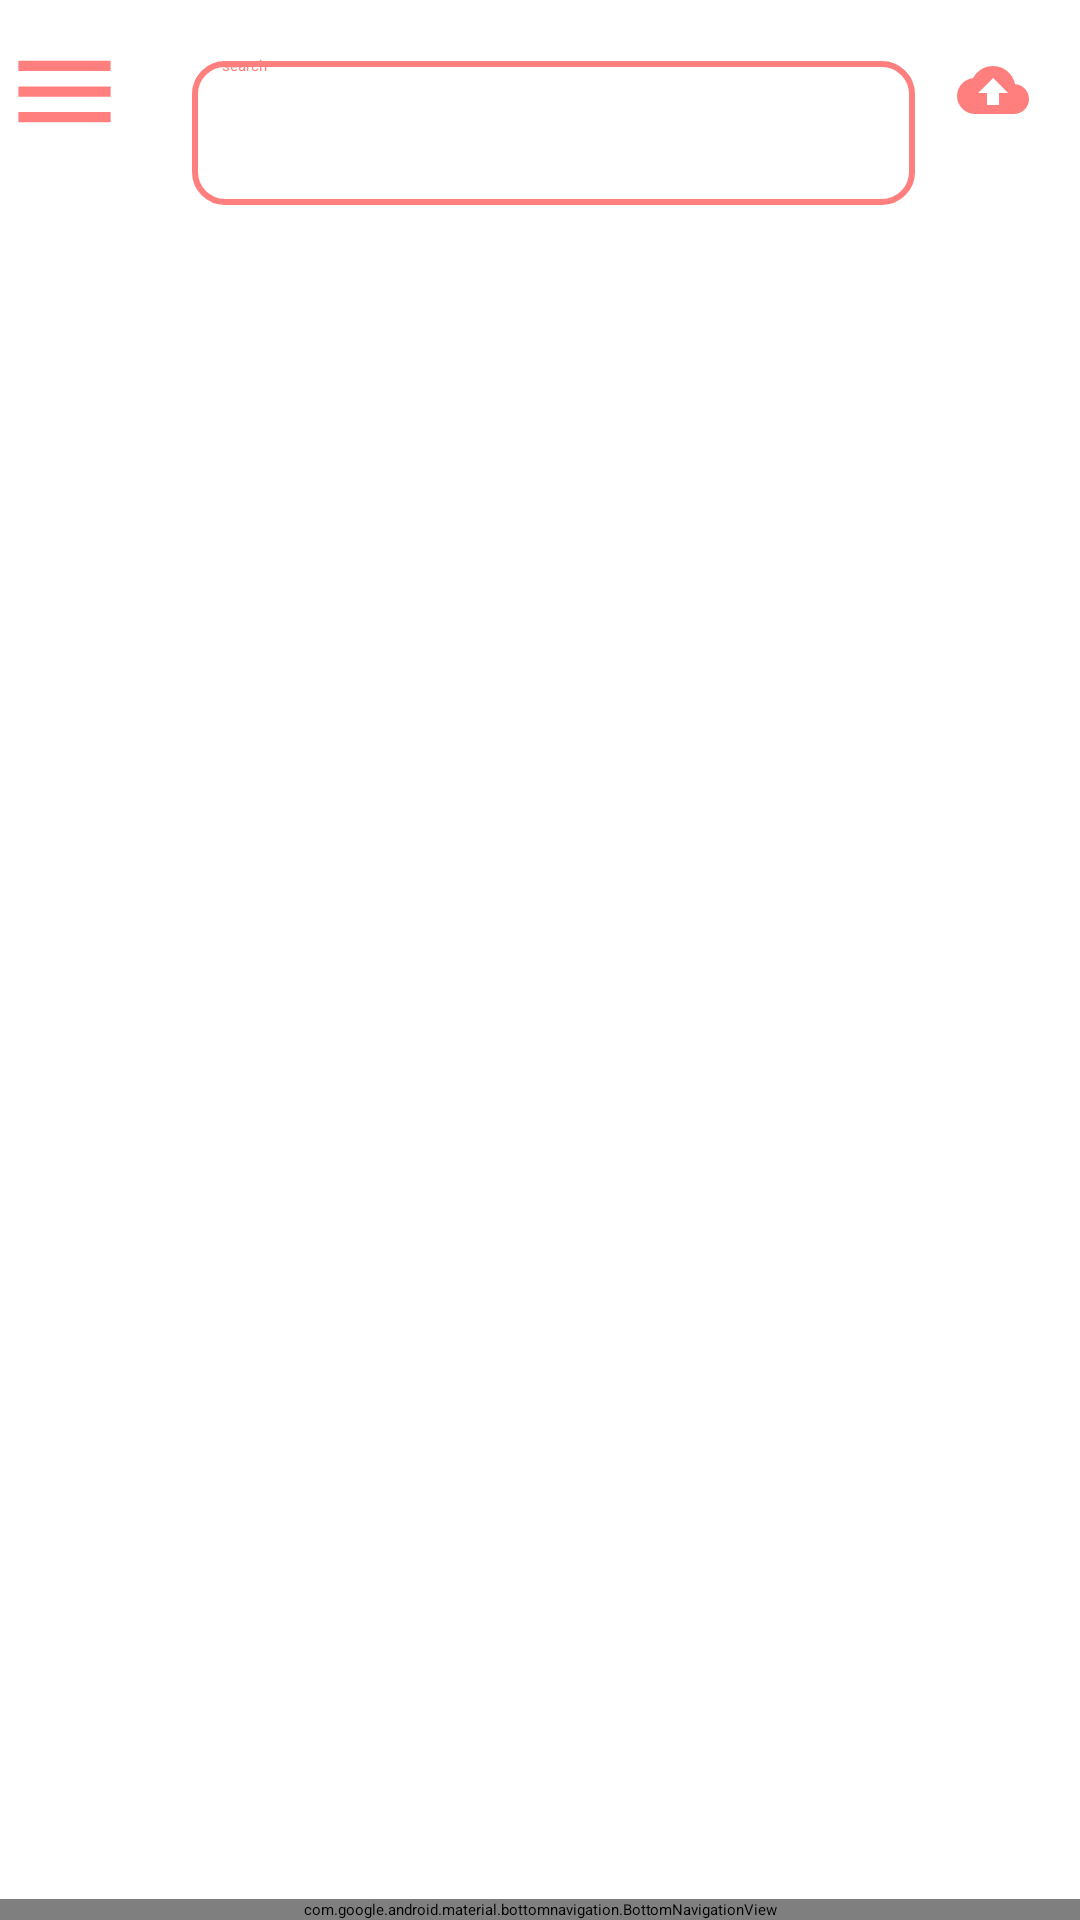

Named icons in this screenshot (1080px×1920px) and their centers, point (x, y):
cloud upload: point (993, 90)
Menu Button: point (64, 91)
